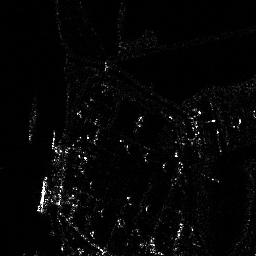ship: (36, 176, 49, 213)
